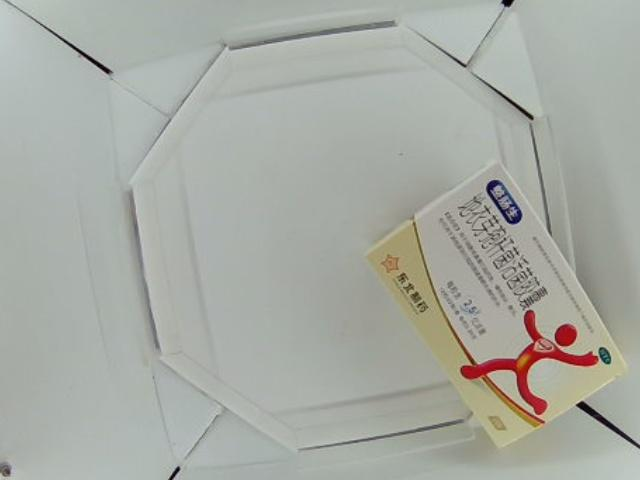Medicine: (363, 161, 629, 448)
